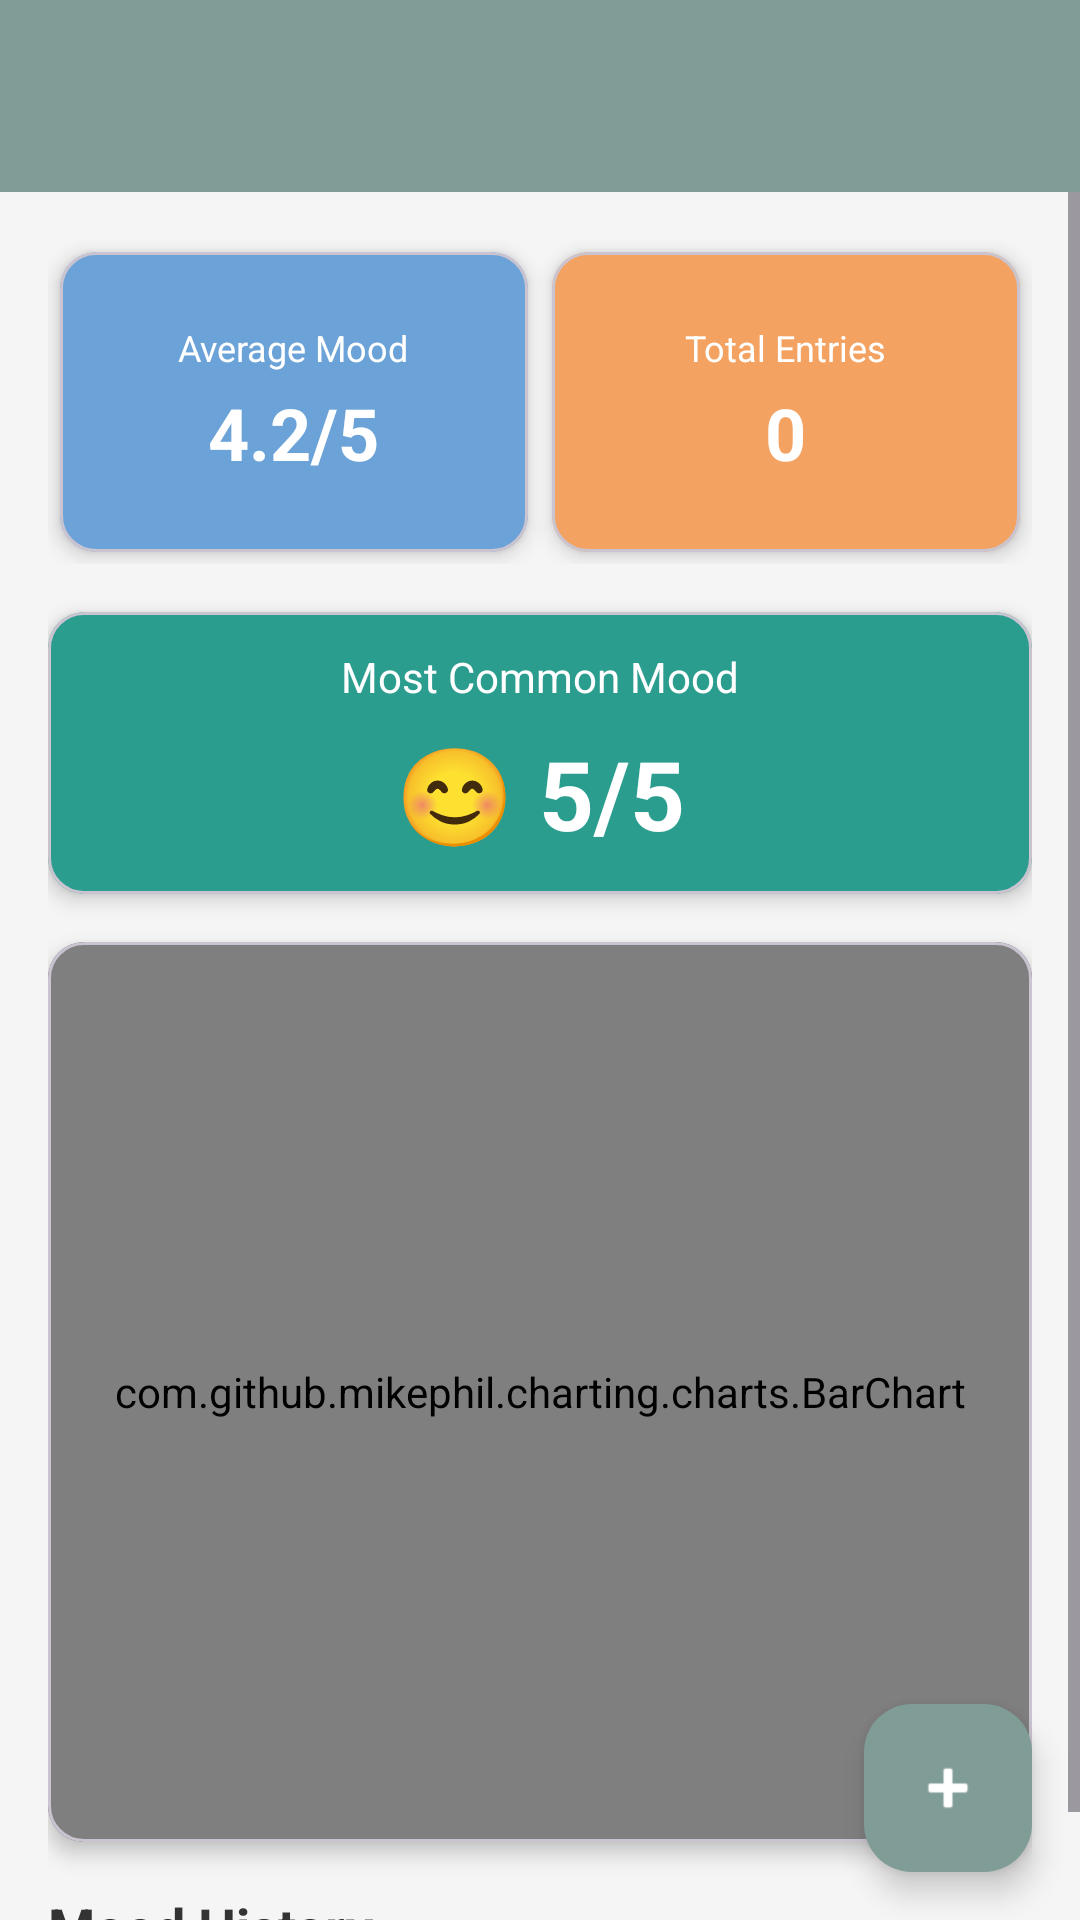

Point at icon controls on the screen. Image size 1080 × 1920, points as point (x, y).
Log Mood: point (948, 1788)
